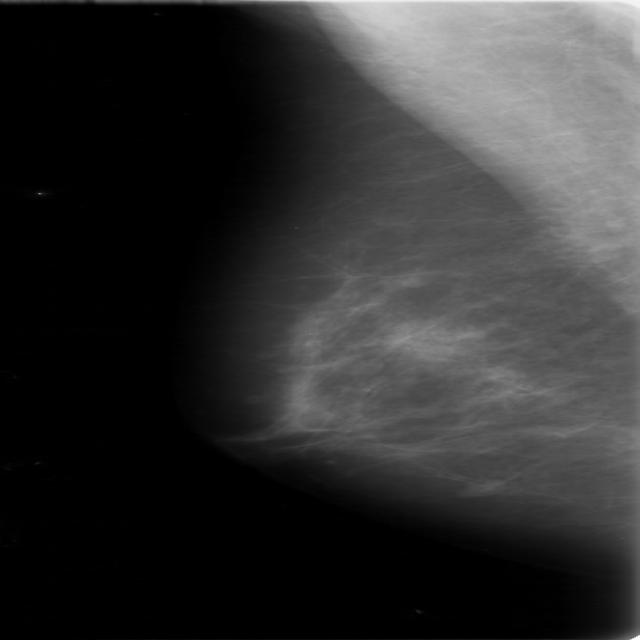tumour: (453, 478, 502, 498)
